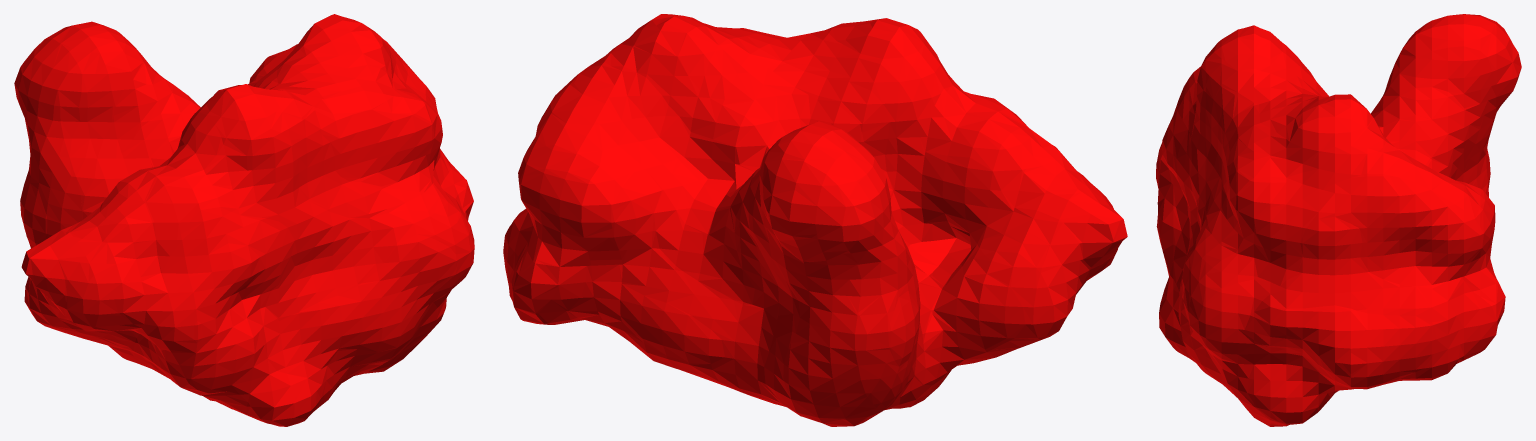
The model's file is mraY_coarse.dae.
3 views of the same model, side by side, from view 1: azimuth 30°, elevation 25°; view 2: azimuth 150°, elevation 25°; view 3: azimuth 270°, elevation 25° (orthographic). The views are drawn at different scales.
Parts seen in each view (by area): view 1: mraY; view 2: mraY; view 3: mraY.
Boxes of the visible parts, x1,y1,x2,y2 form: mraY: (14, 14, 474, 426); mraY: (503, 14, 1127, 426); mraY: (1156, 14, 1521, 426).
Size of the model in its own units: 73.09 by 47.89 by 49.14.
